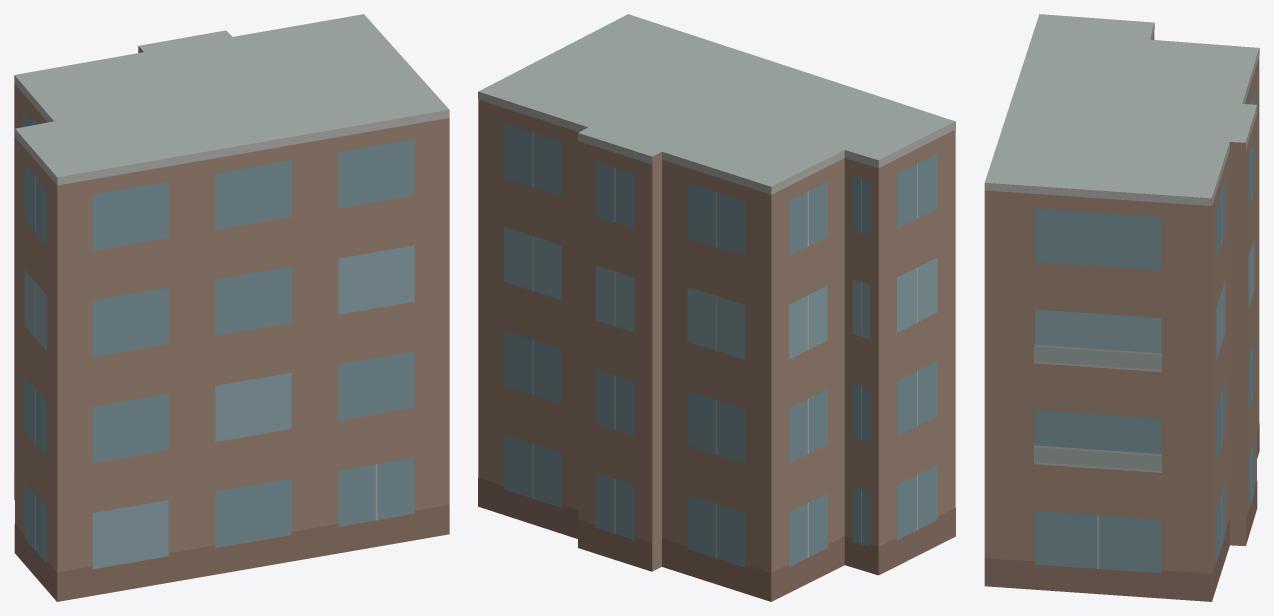
File: survey-upis-32513383.glb
The picture shows the model from 3 angles, left to right: view 1: azimuth 30°, elevation 25°; view 2: azimuth 150°, elevation 25°; view 3: azimuth 270°, elevation 25°; orthographic projection. The views are drawn at different scales.
Parts seen in each view (by area): view 1: survey-upis-32513383.tmp; view 2: survey-upis-32513383.tmp; view 3: survey-upis-32513383.tmp.
Boxes of the visible parts, x1,y1,x2,y2 form: survey-upis-32513383.tmp: (14,14,449,601); survey-upis-32513383.tmp: (478,14,955,601); survey-upis-32513383.tmp: (984,14,1259,601).
Bounding box in the file's own units: 12.56 × 12.8 × 7.91.
